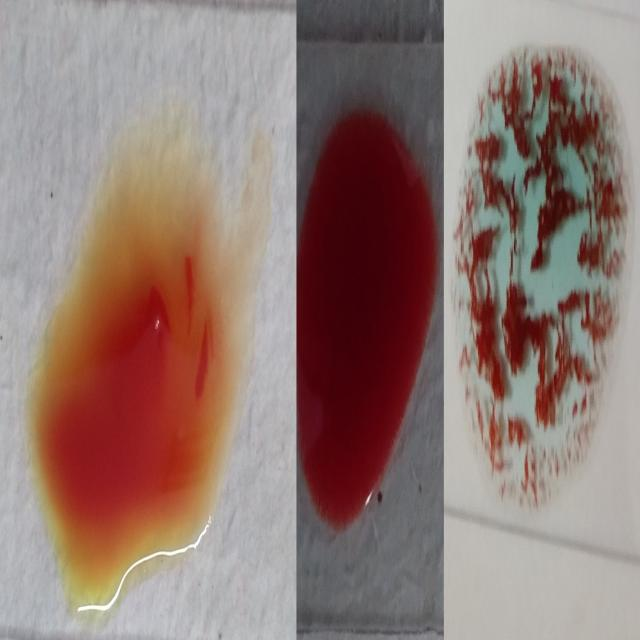A: (450, 38, 629, 520)
